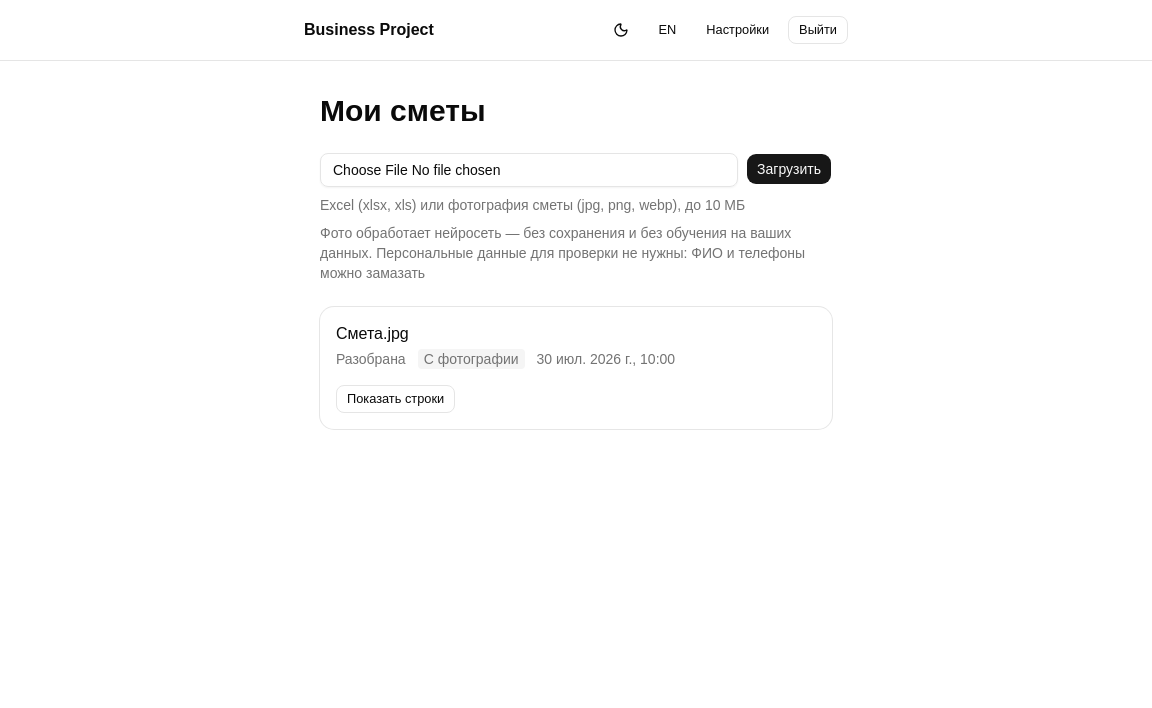
Test: фото, где распозналась одна строка из трёх, честно советует прислать файл
Click the button "Показать строки": {"x": 396, "y": 399} [336,385,455,413]
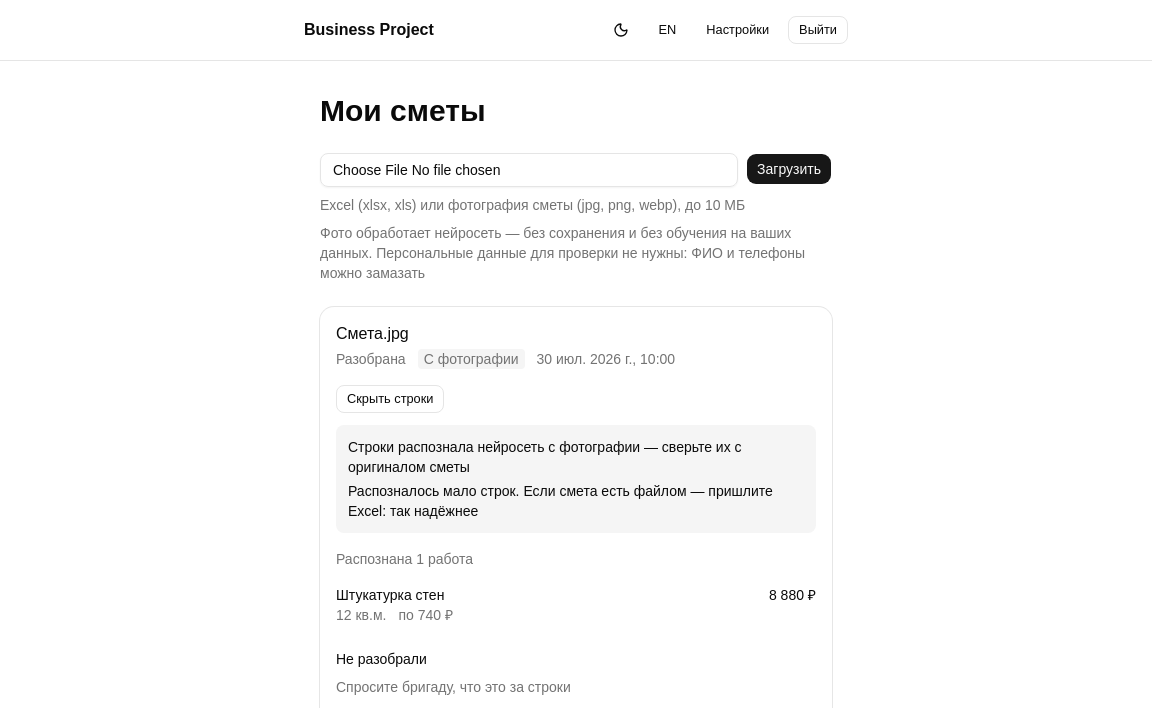
Check: the text "Распозналось мало строк" is shown, box [348,483,773,519]
